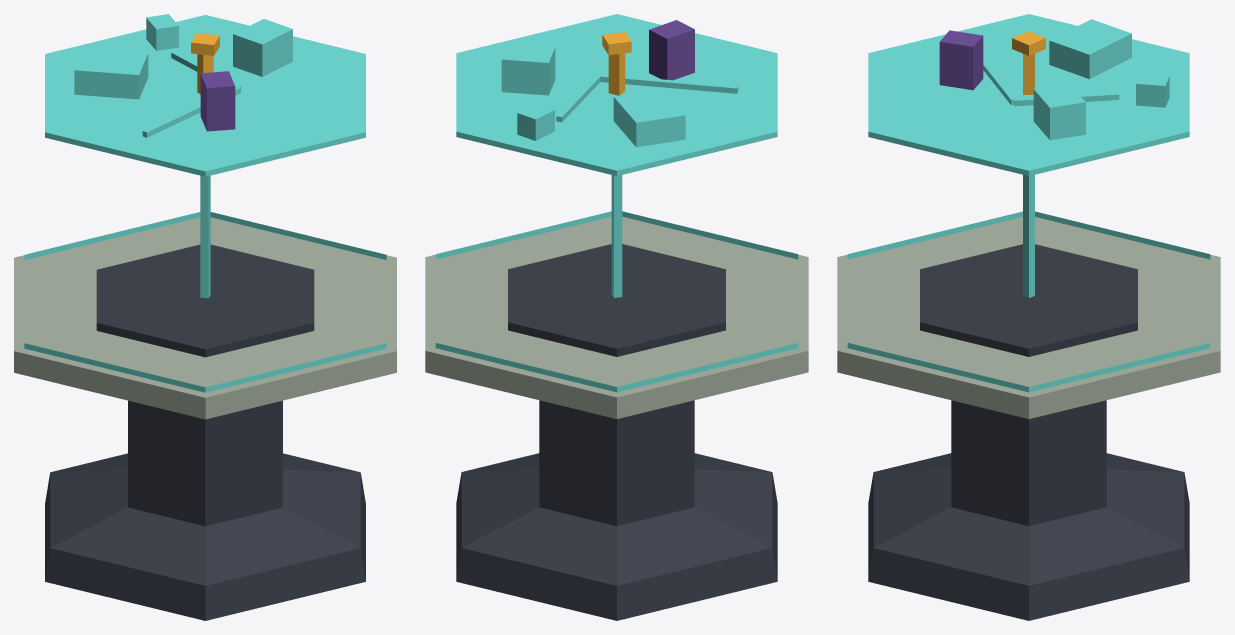
The model's file is GV_ShipHoloTable_01.glb.
3 renders of one model, left to right at view 1: azimuth 30°, elevation 25°; view 2: azimuth 150°, elevation 25°; view 3: azimuth 270°, elevation 25°, orthographic.
Parts seen in each view (by area): view 1: GV_ShipHoloTable_01; view 2: GV_ShipHoloTable_01; view 3: GV_ShipHoloTable_01.
Part boxes in pixels (left/top/right/bottom): GV_ShipHoloTable_01: left=14, top=14, right=396, bottom=620; GV_ShipHoloTable_01: left=425, top=14, right=808, bottom=620; GV_ShipHoloTable_01: left=837, top=14, right=1220, bottom=620.
Bounding box in the file's own units: 1.48 × 1.86 × 1.28.
Materials: 1 (1 with a texture image).
